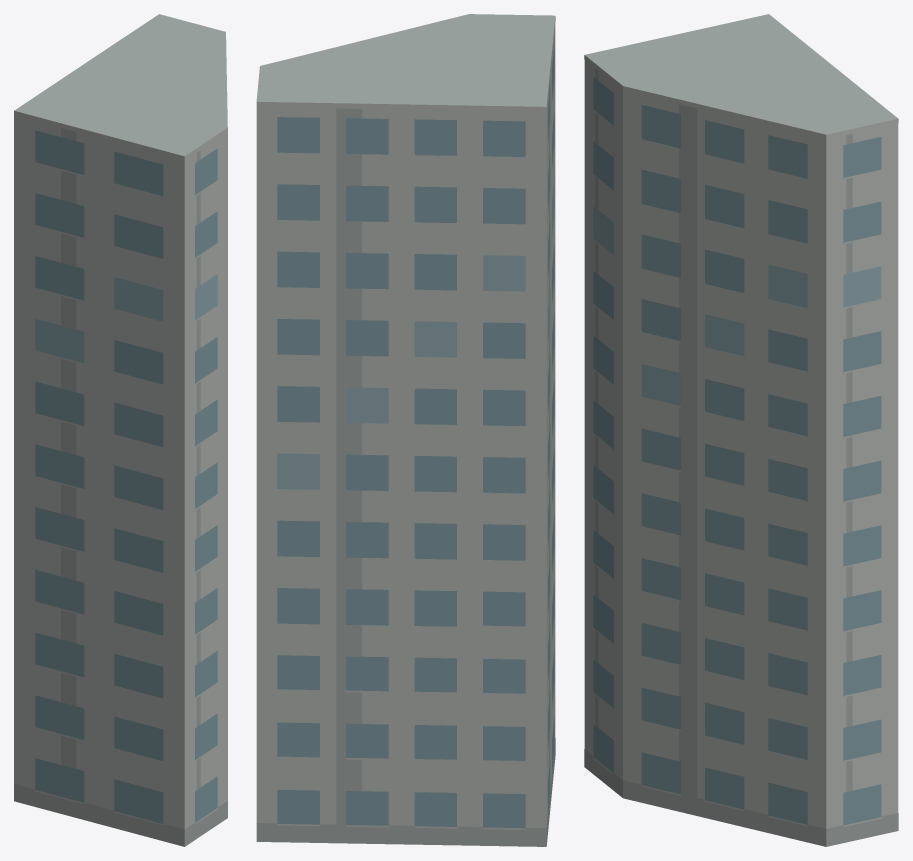
The model's file is residential-6a980042-861a-46b1-8f98-067905ae854d.glb.
3 views of the same model, side by side, from view 1: azimuth 30°, elevation 25°; view 2: azimuth 150°, elevation 25°; view 3: azimuth 270°, elevation 25° (orthographic). The views are drawn at different scales.
Parts seen in each view (by area): view 1: residential-6a980042-861a-46b1-8f98-067905ae854d.tmp; view 2: residential-6a980042-861a-46b1-8f98-067905ae854d.tmp; view 3: residential-6a980042-861a-46b1-8f98-067905ae854d.tmp.
Part boxes in pixels (left/top/right/bottom): residential-6a980042-861a-46b1-8f98-067905ae854d.tmp: left=14, top=14, right=227, bottom=846; residential-6a980042-861a-46b1-8f98-067905ae854d.tmp: left=256, top=14, right=555, bottom=846; residential-6a980042-861a-46b1-8f98-067905ae854d.tmp: left=584, top=14, right=898, bottom=846.
Bounding box in the file's own units: 13.09 × 36 × 14.39.
